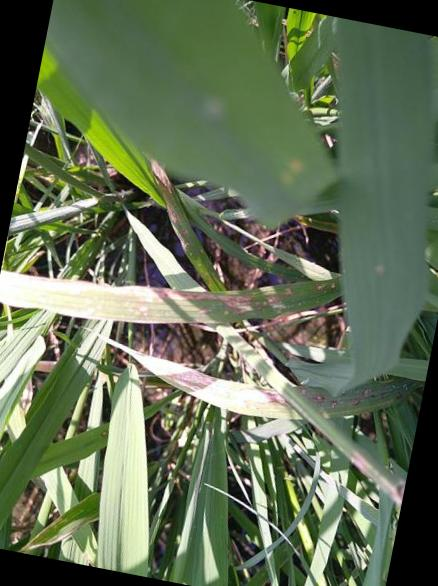Leaf Streak: (85, 328, 297, 418), (0, 269, 342, 324), (145, 151, 214, 285), (17, 492, 99, 553), (305, 378, 419, 415)
